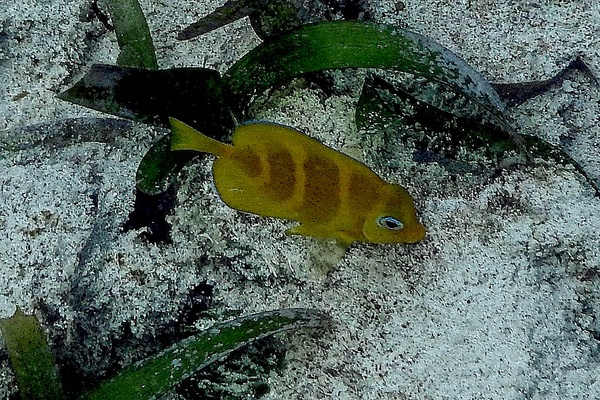Acanthurus_coeruleus: (164, 111, 428, 250)
